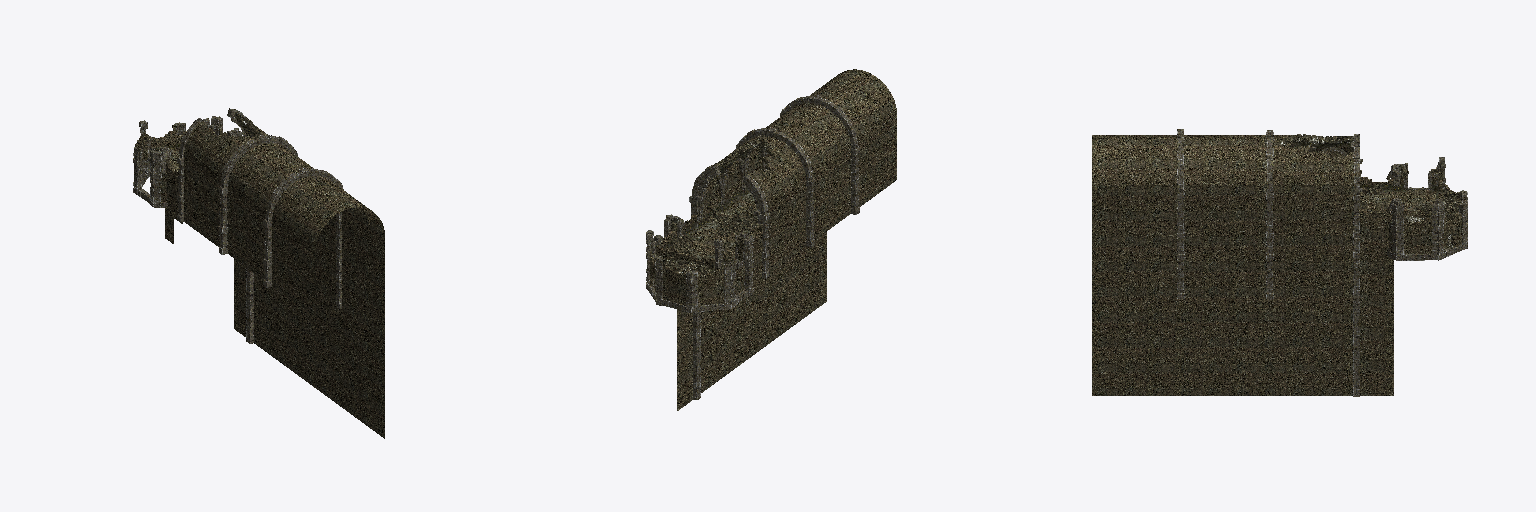
The picture shows the model from 3 angles: view 1: azimuth 30°, elevation 25°; view 2: azimuth 150°, elevation 25°; view 3: azimuth 270°, elevation 25°; orthographic projection.
Visible parts, largest first — view 1: mesh8, mesh2, mesh6; view 2: mesh8, mesh2, mesh6, mesh7, mesh4; view 3: mesh8, mesh6, mesh2, mesh7, mesh3.
Boxes of the visible parts, x1=… form: mesh8: x1=184, y1=113, x2=384, y2=438; mesh2: x1=133, y1=108, x2=343, y2=343; mesh6: x1=135, y1=118, x2=260, y2=336; mesh8: x1=701, y1=69, x2=896, y2=392; mesh2: x1=646, y1=95, x2=859, y2=399; mesh6: x1=650, y1=138, x2=777, y2=410; mesh7: x1=678, y1=151, x2=758, y2=260; mesh4: x1=662, y1=144, x2=765, y2=257; mesh8: x1=1092, y1=135, x2=1353, y2=395; mesh6: x1=1283, y1=134, x2=1465, y2=395; mesh2: x1=1177, y1=129, x2=1467, y2=396; mesh7: x1=1285, y1=143, x2=1435, y2=215; mesh3: x1=1280, y1=136, x2=1460, y2=248.
Size of the model in its own units: 7.55 by 20.2 by 28.1.
9 materials, 6 textured.